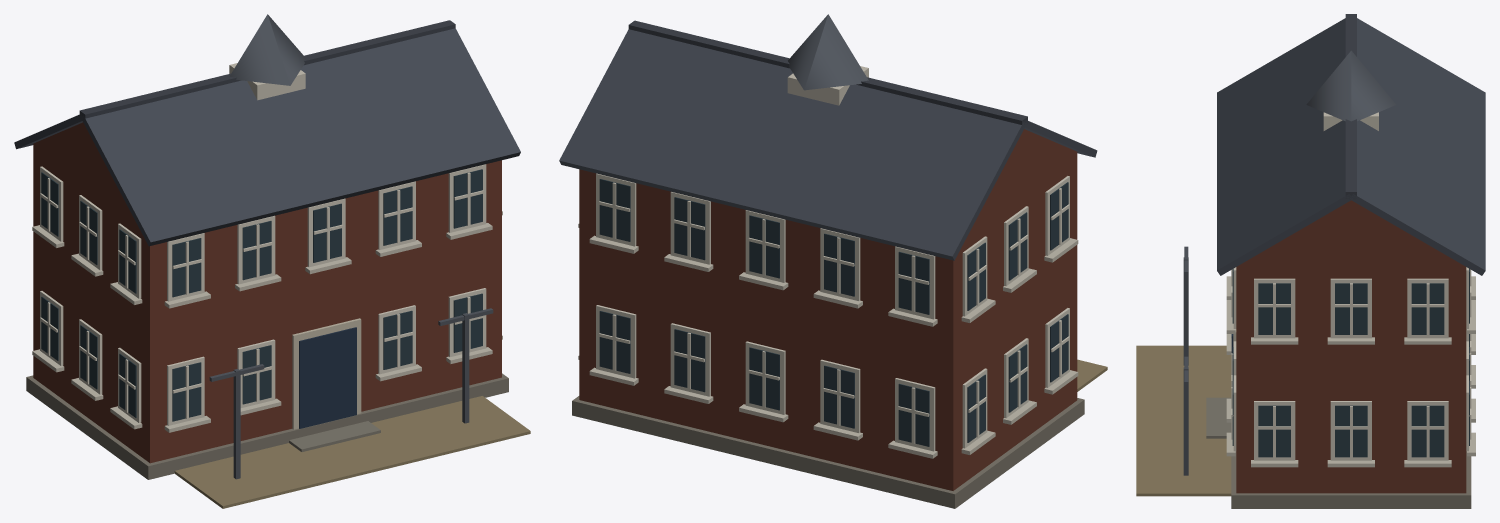
The model's file is procedural_school@5.glb.
3 views of the same model, side by side, from view 1: azimuth 30°, elevation 25°; view 2: azimuth 150°, elevation 25°; view 3: azimuth 270°, elevation 25° (orthographic). The views are drawn at different scales.
Parts seen in each view (by area): view 1: part_0; view 2: part_0; view 3: part_0.
Part boxes in pixels (x1,y1,x2,y2): part_0: [14, 14, 530, 508]; part_0: [559, 14, 1107, 508]; part_0: [1136, 14, 1485, 508].
Bounding box in the file's own units: 8.42 × 8.2 × 6.99.
